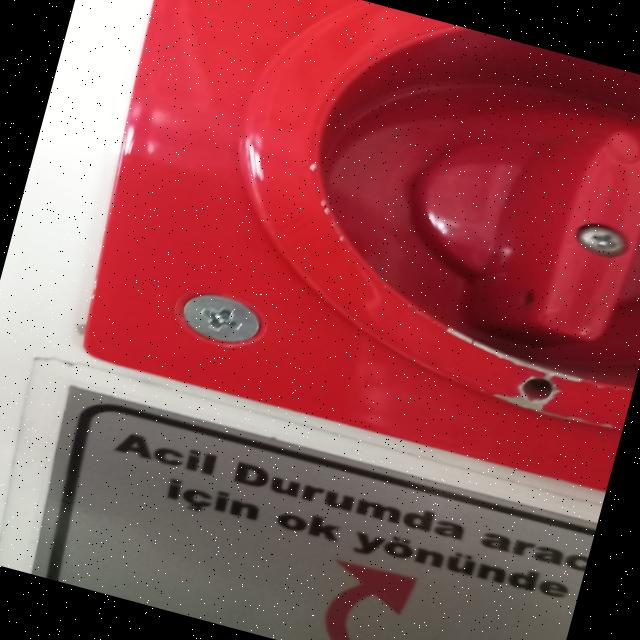Phillips: (178, 286, 266, 352), (575, 218, 632, 262)
